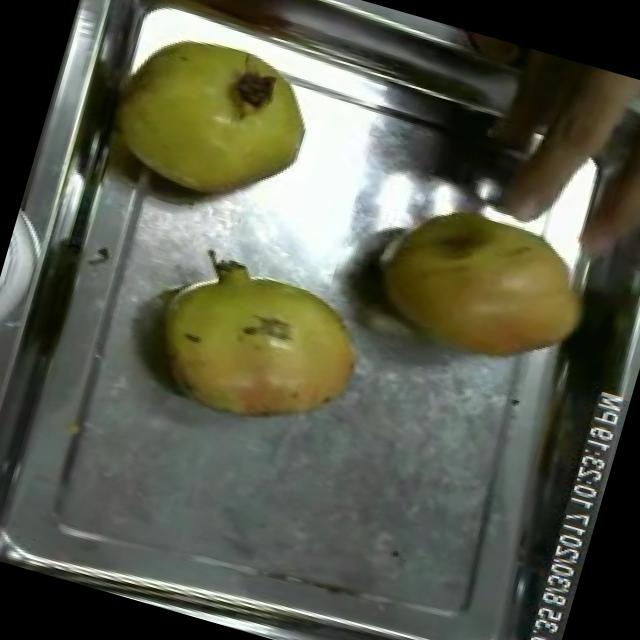fruit: (131, 235, 396, 458), (347, 172, 612, 391), (92, 13, 337, 226), (435, 22, 542, 82)
